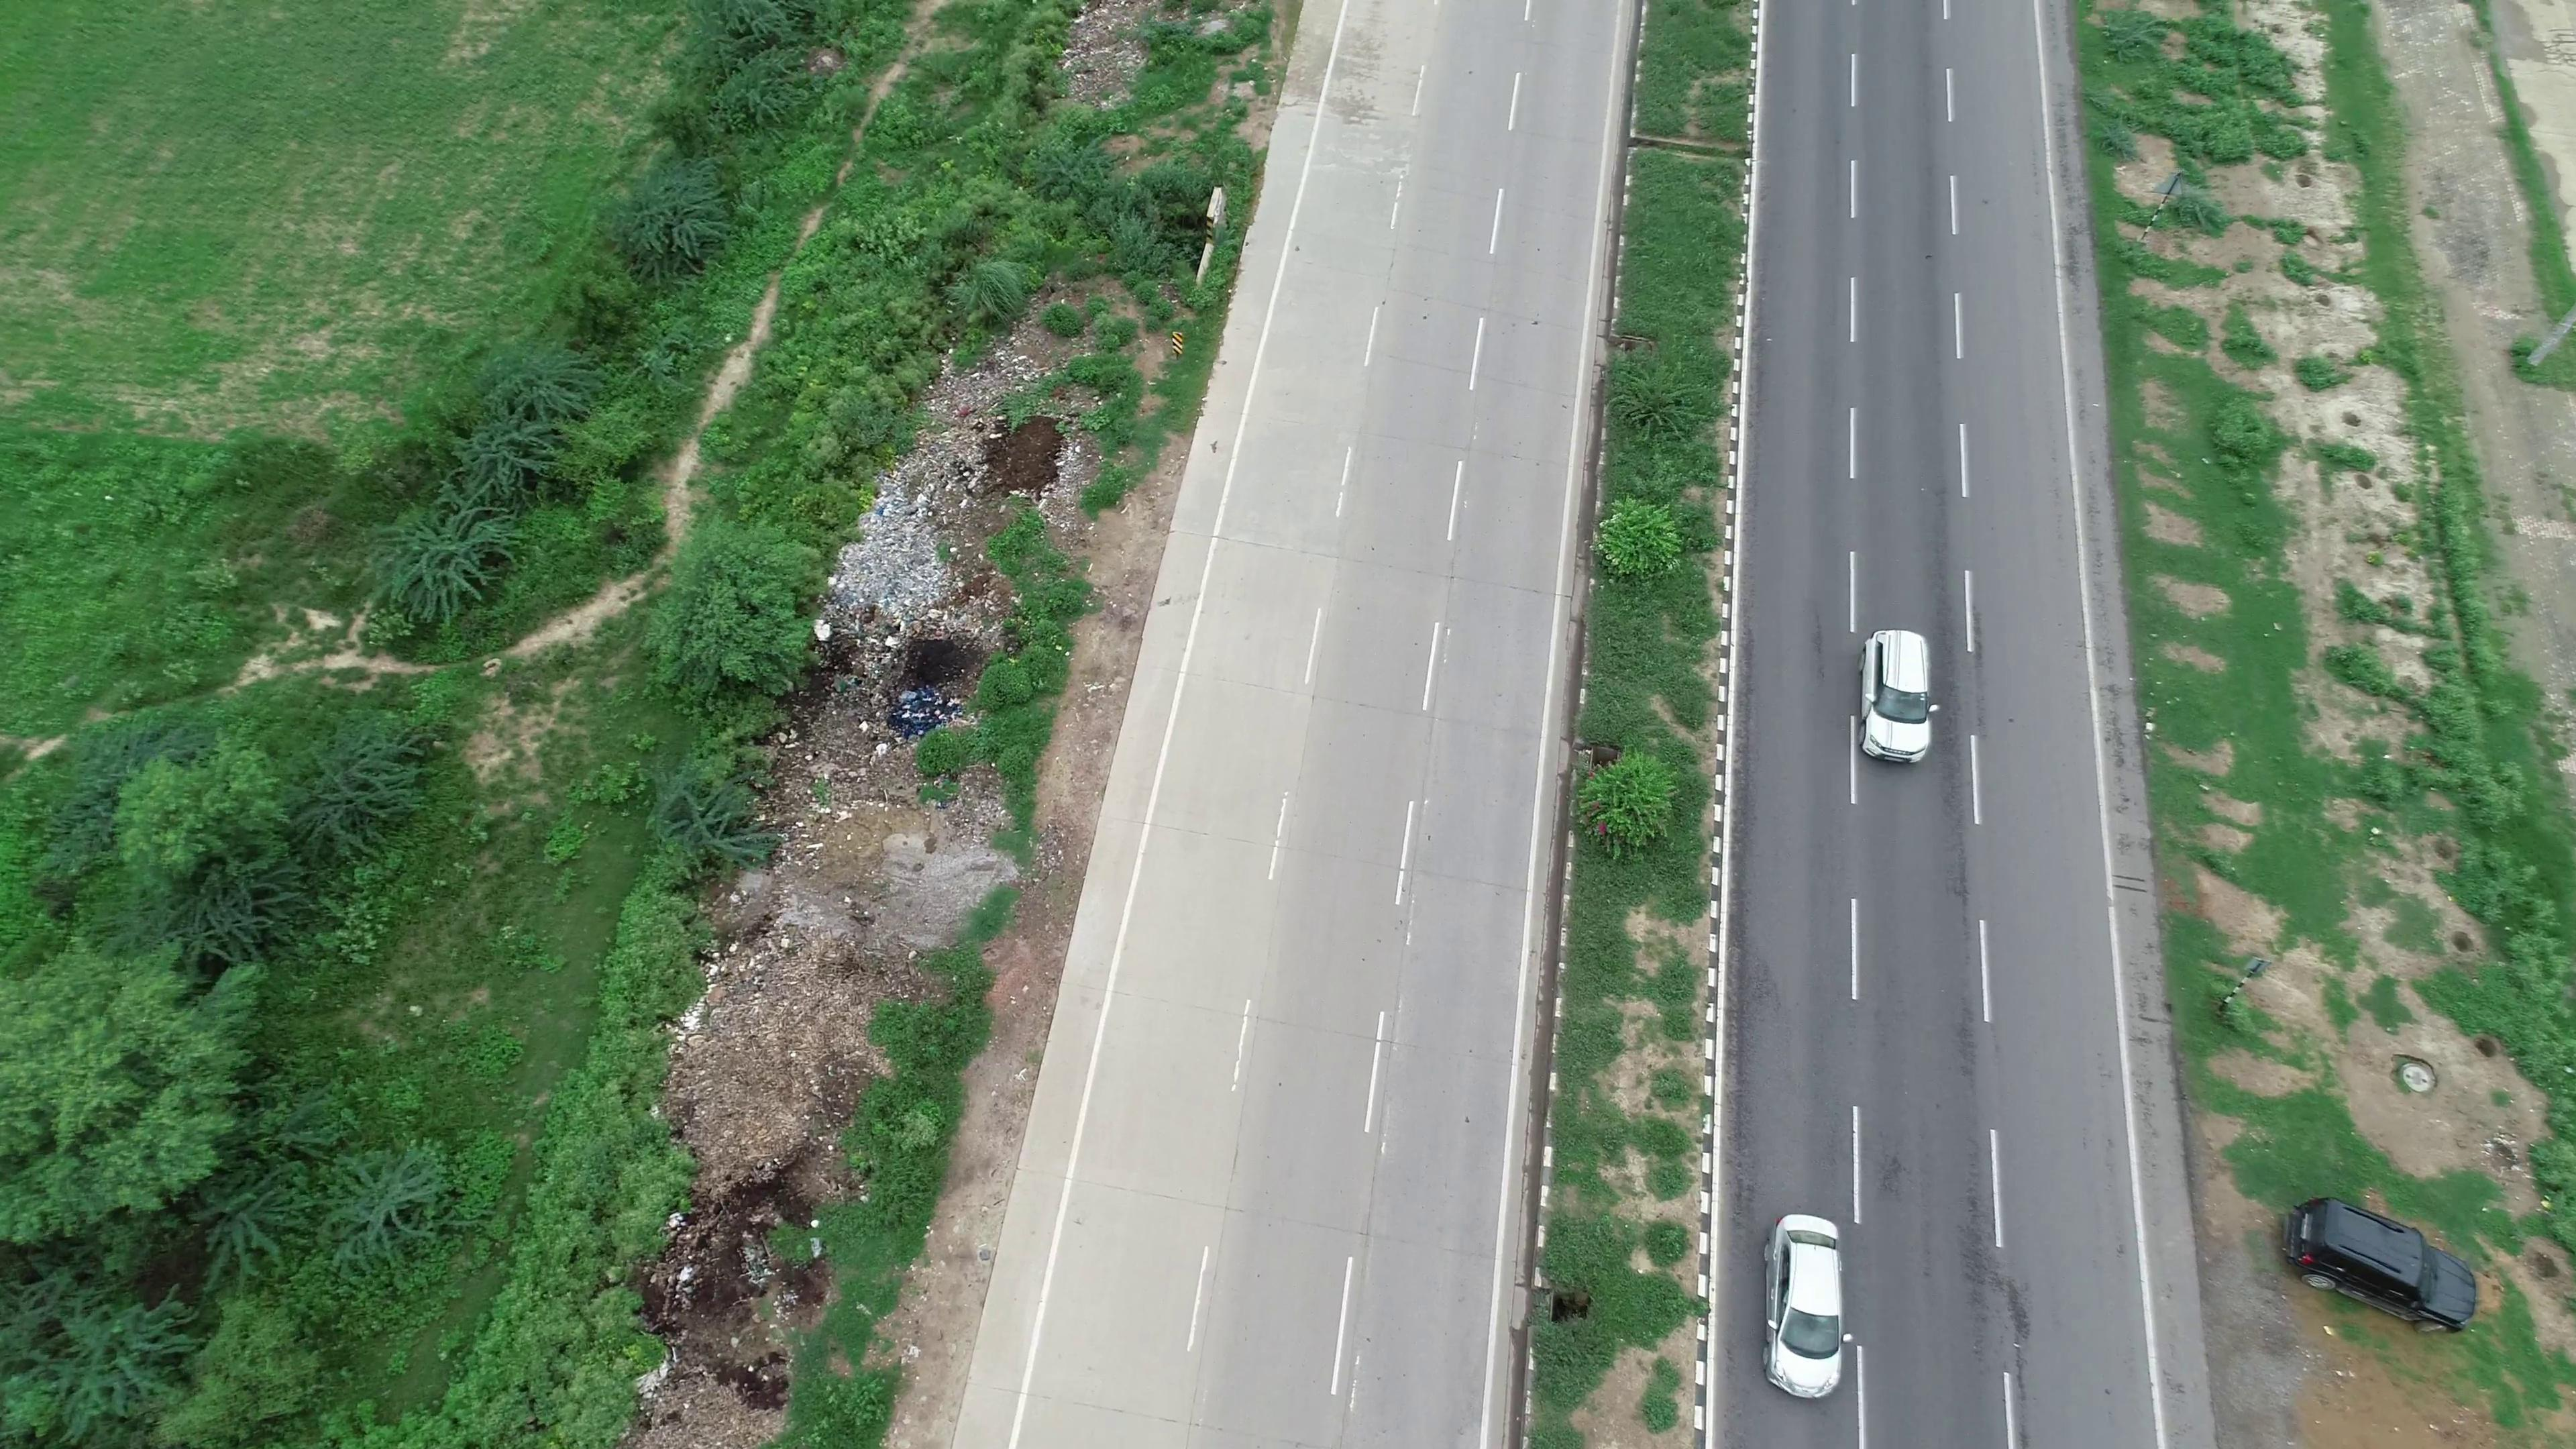Ravelling: (1950, 989, 2038, 1371), (1941, 589, 1996, 920)
Road_side_garbage: (814, 407, 1099, 674)
